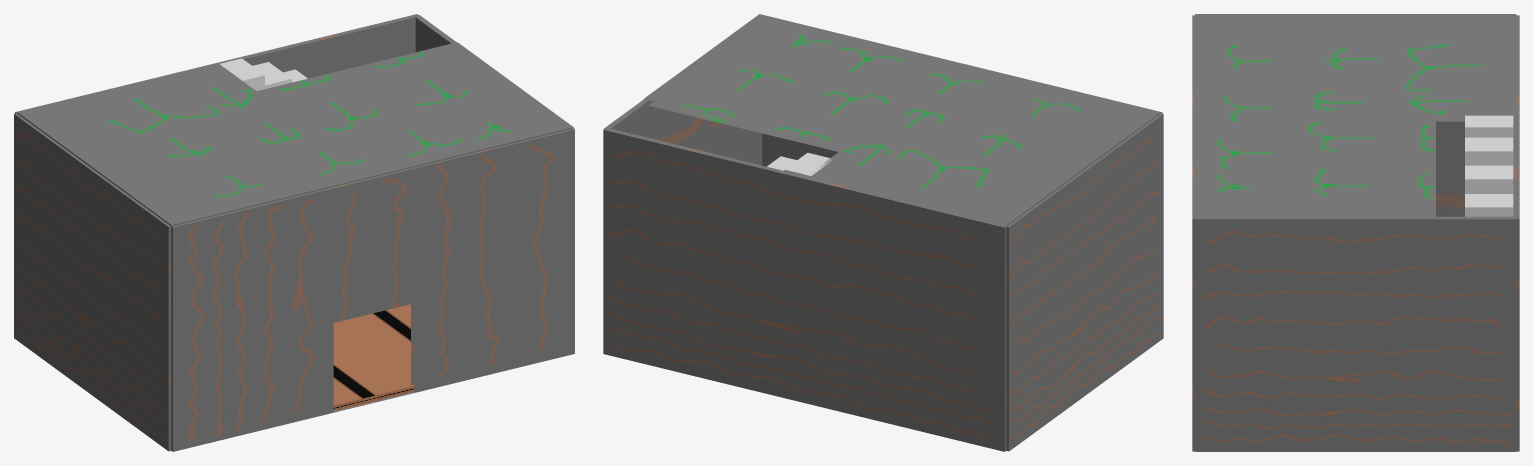
The model's file is home.fbx.
3 views of the same model, side by side, from view 1: azimuth 30°, elevation 25°; view 2: azimuth 150°, elevation 25°; view 3: azimuth 270°, elevation 25° (orthographic). The views are drawn at different scales.
Parts seen in each view (by area): view 1: 立方体.003, Cube.001, 立方体, Cube, 立方体.002, 立方体.001, 立方体.019, 立方体.018; view 2: 立方体.002, Cube.001, 立方体, 立方体.001, 立方体.003, 立方体.019; view 3: 立方体.001, Cube.001, 立方体, 立方体.002, 立方体.003, 立方体.017, 立方体.018, 立方体.016, 立方体.019.
Part boxes in pixels (box(x1,y1,x2,y2)): 立方体.003: box(171, 128, 574, 451); Cube.001: box(17, 42, 573, 230); 立方体: box(14, 113, 171, 451); Cube: box(333, 304, 414, 410); 立方体.002: box(15, 14, 419, 113); 立方体.001: box(415, 15, 574, 128); 立方体.019: box(219, 58, 264, 90); 立方体.018: box(253, 62, 291, 88); 立方体.002: box(603, 127, 1006, 451); Cube.001: box(644, 14, 1161, 225); 立方体: box(1006, 113, 1163, 451); 立方体.001: box(604, 99, 762, 165); 立方体.003: box(762, 112, 1162, 166); 立方体.019: box(784, 152, 833, 176); 立方体.001: box(1195, 216, 1516, 451); Cube.001: box(1195, 14, 1515, 217); 立方体: box(1436, 14, 1516, 216); 立方体.002: box(1513, 15, 1519, 451); 立方体.003: box(1192, 15, 1198, 451); 立方体.017: box(1465, 165, 1513, 193); 立方体.018: box(1465, 137, 1513, 165); 立方体.016: box(1465, 194, 1513, 216); 立方体.019: box(1465, 115, 1513, 137).
Size of the model in its own units: 3026 by 1610 by 2040.
Materials: 10 (8 with a texture image).
